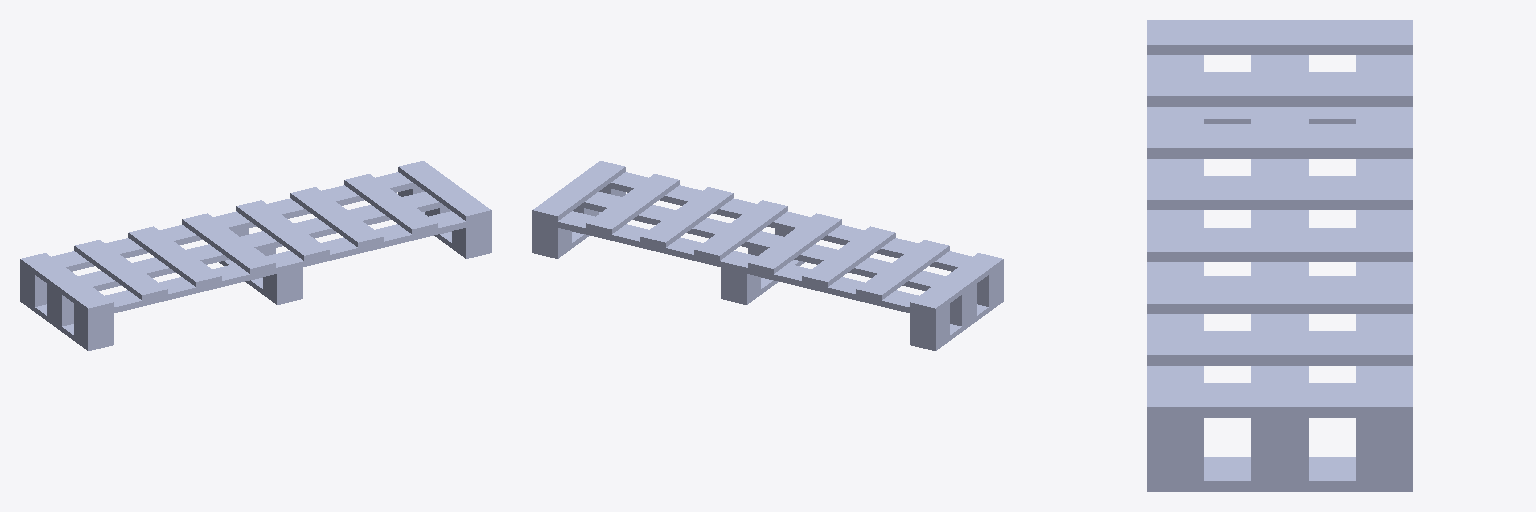
The robot description file, URDF, robot "pallet_urdf":
<?xml version="1.0" encoding="utf-8"?>
<!-- This URDF was automatically created by SolidWorks to URDF Exporter! Originally created by [author] ([email redacted]) 
     Commit Version: 1.6.0-4-g7f85cfe  Build Version: 1.6.7995.38578
     For more information, please see http://wiki.ros.org/sw_urdf_exporter -->
<robot
  name="pallet_urdf">
  <link
    name="base_link">
    <inertial>
      <origin
        xyz="0.55354300835147 0.649806497491708 0.974470723454633"
        rpy="0 0 0" />
      <mass
        value="12.718125" />
      <inertia
        ixx="0.05011773"
        ixy="4.8230693965501E-19"
        ixz="-3.14732432919024E-18"
        iyy="0.602756250000001"
        iyz="-4.10639232657207E-20"
        izz="0.556581597187501" />
    </inertial>
    <visual>
      <origin
        xyz="0 0 0"
        rpy="0 0 0" />
      <geometry>
        <mesh
          filename="package://pallet_urdf/meshes/base_link.STL" />
      </geometry>
      <material
        name="">
        <color
          rgba="0.792156862745098 0.819607843137255 0.933333333333333 1" />
      </material>
    </visual>
    <collision>
      <origin
        xyz="0 0 0"
        rpy="0 0 0" />
      <geometry>
        <mesh
          filename="package://pallet_urdf/meshes/base_link.STL" />
      </geometry>
    </collision>
  </link>
</robot>

--- Render facts (derived) ---
Views: 3 orthographic renders of the robot side by side, from view 1: azimuth 30°, elevation 25°; view 2: azimuth 150°, elevation 25°; view 3: azimuth 270°, elevation 25°.
Model pallet_urdf with 1 links and 0 joints (none), rooted at base_link, posed all joints at 0.
Visible links, largest first — view 1: base_link; view 2: base_link; view 3: base_link.
Boxes of the visible links, bbox=[...] form: base_link: bbox=[20, 161, 491, 350]; base_link: bbox=[532, 161, 1003, 350]; base_link: bbox=[1147, 20, 1412, 491].
Size in the robot's own frame: 1.2 by 0.35 by 0.122 metres.
Meshes: 1 distinct files referenced, 1 mesh visuals loaded (1 binary STL).